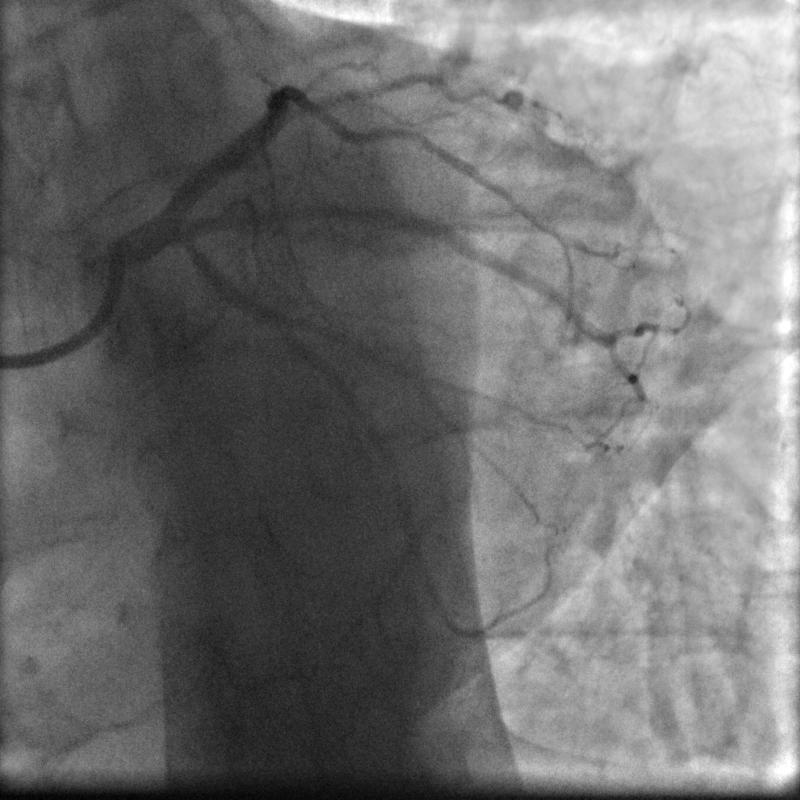Stenosis: (284, 84, 342, 120)
